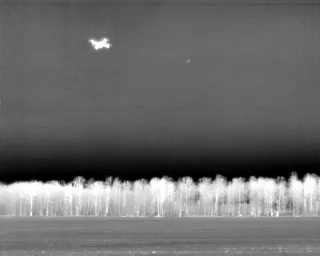DRONE: (86, 33, 116, 55)
